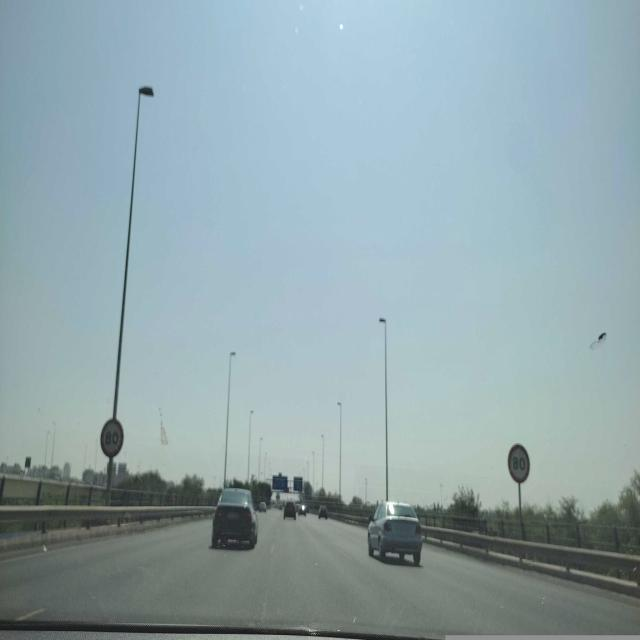car: (367, 500, 422, 566), (212, 487, 260, 550), (283, 501, 297, 520), (318, 504, 328, 520), (297, 502, 307, 516), (258, 499, 267, 512)
